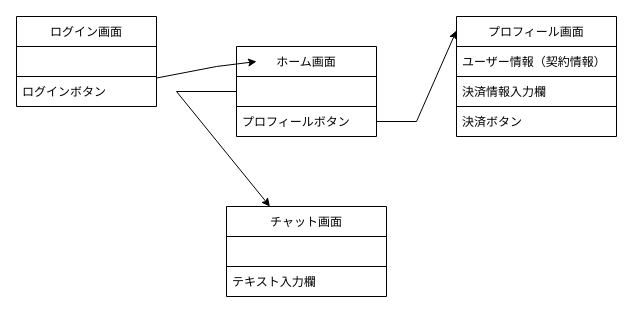
This 633x313 diagram has some shape labels left out. The centre of each missing label's shape, as x and y in pixels:
チャット一覧: [306,91]
テキスト一覧: [306,251]
ログインid入力欄: [86,61]
